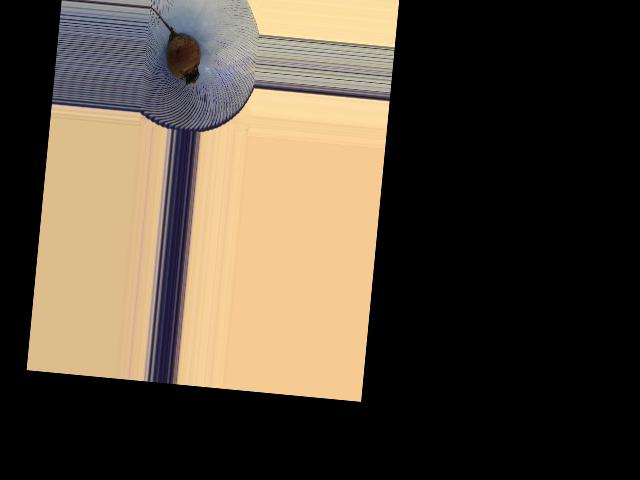beet: (142, 7, 204, 85)
